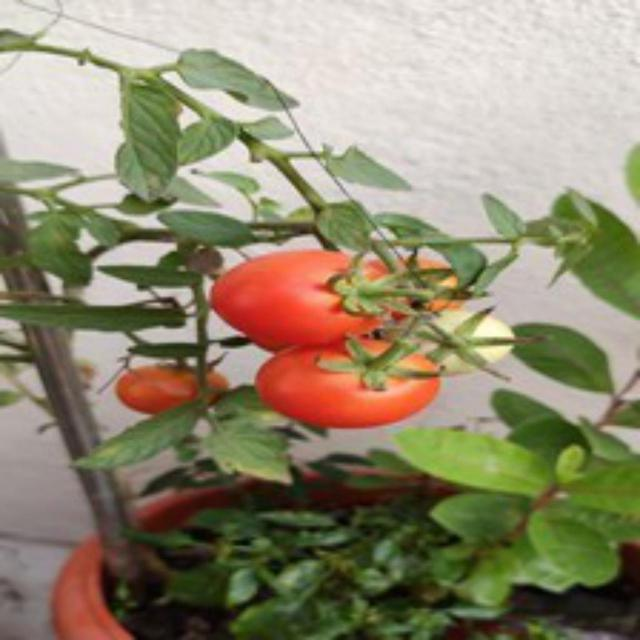tomato: (255, 322, 450, 428), (213, 248, 400, 348)
